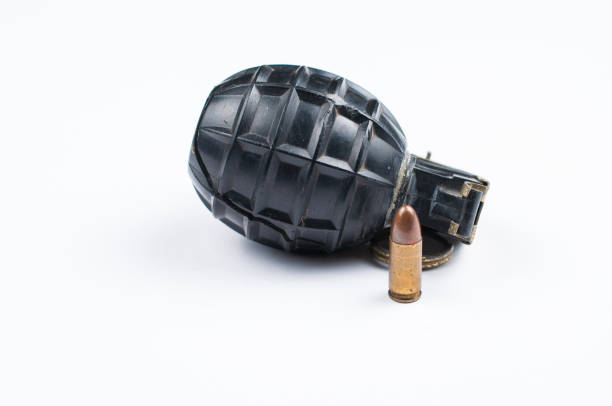e1: (188, 65, 487, 269)
